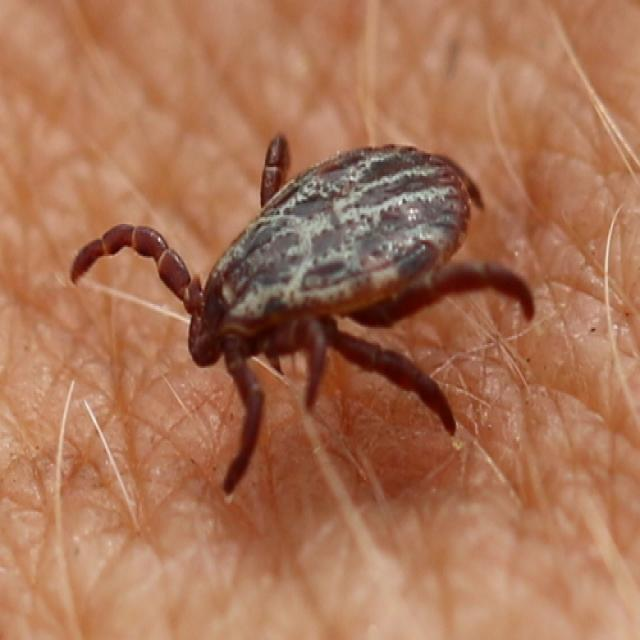Dermacentor Reticulatus-M: (70, 137, 536, 500)
